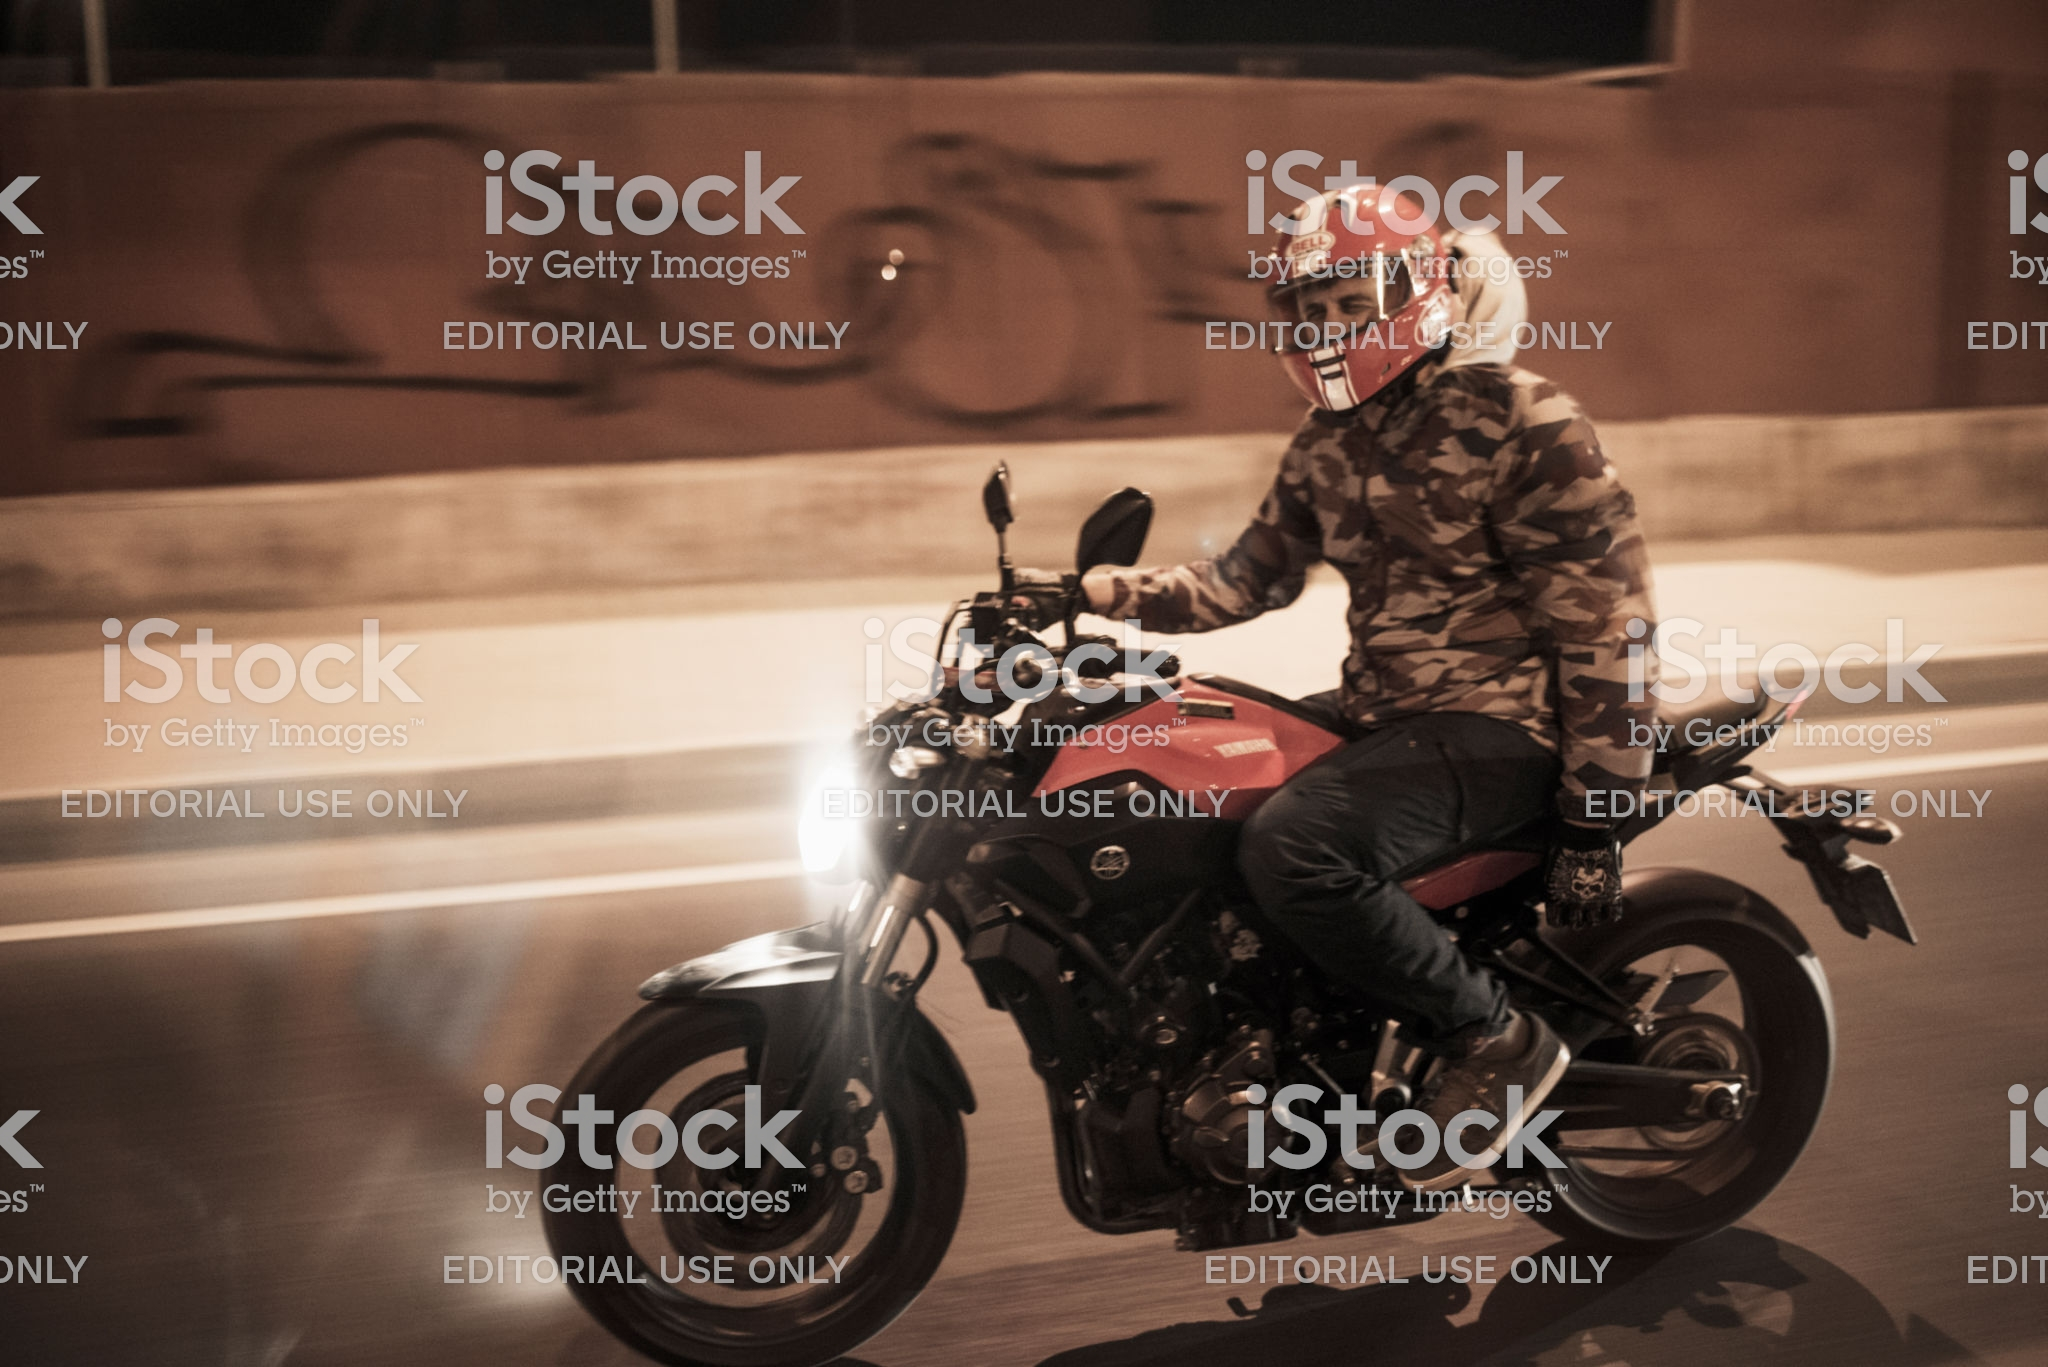helmet: (1240, 191, 1462, 417)
